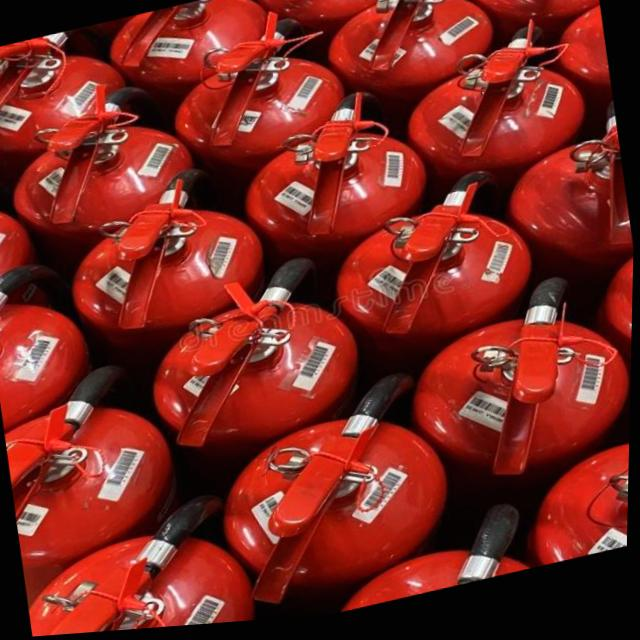FireExtinguisher: (117, 239, 399, 556), (228, 73, 470, 425), (154, 4, 409, 331), (52, 147, 307, 460), (304, 158, 571, 440), (367, 15, 609, 325), (370, 267, 635, 530), (202, 361, 470, 620), (0, 340, 227, 622), (87, 0, 310, 284), (1, 78, 226, 345), (307, 0, 536, 243), (0, 17, 170, 335), (21, 483, 268, 638), (0, 232, 144, 486), (451, 0, 625, 200), (321, 490, 558, 620), (482, 104, 638, 301), (512, 431, 632, 578)
